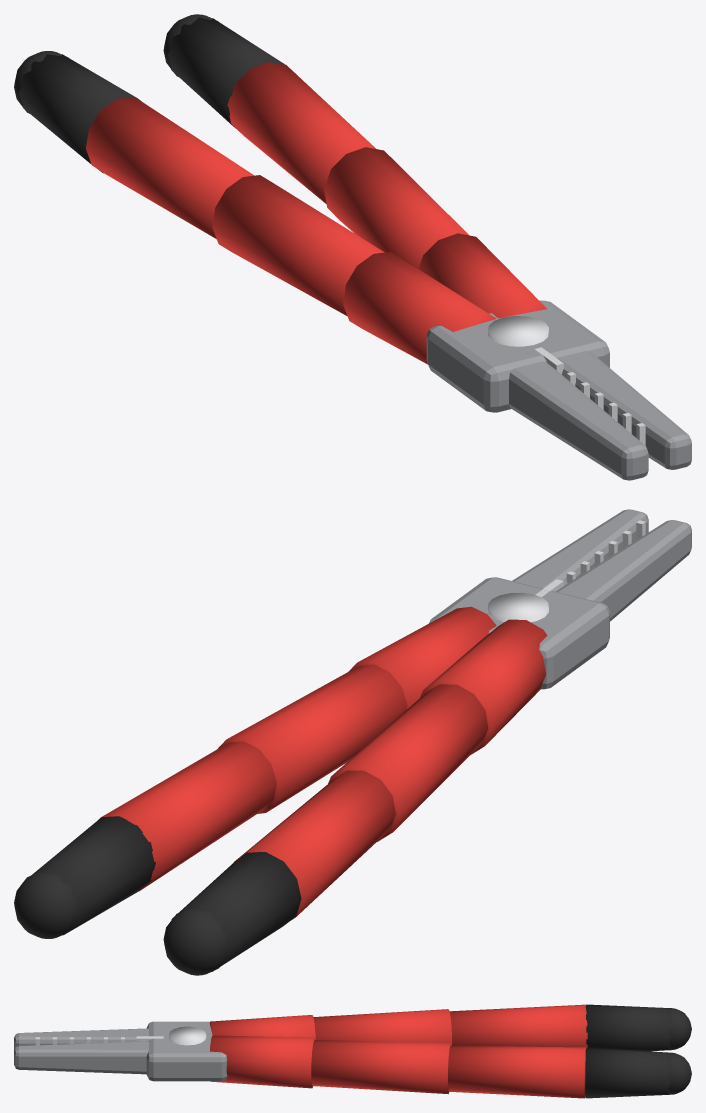
The model's file is pliers_180.glb.
3 renders of one model, top to bottom at view 1: azimuth 30°, elevation 25°; view 2: azimuth 150°, elevation 25°; view 3: azimuth 270°, elevation 25°, orthographic. The views are drawn at different scales.
Visible parts, largest first — view 1: Handle_Left_1, Handle_Left_2, Handle_Right_2, Handle_Right_1, Handle_Left_0, Joint_Plate, Jaw_Left, Handle_Left_3, Handle_Right_3, Handle_Right_0, Jaw_Right, Pivot_Rivet; view 2: Handle_Right_1, Handle_Right_2, Handle_Left_1, Handle_Left_2, Handle_Right_3, Handle_Left_0, Handle_Left_3, Joint_Plate, Jaw_Left, Handle_Right_0, Jaw_Right, Handle_Left_End (+2 smaller); view 3: Handle_Right_2, Handle_Right_1, Handle_Left_2, Handle_Right_0, Handle_Right_3, Handle_Left_1, Jaw_Right, Joint_Plate, Handle_Left_3, Handle_Left_0, Jaw_Left, Handle_Right_End (+2 smaller).
Part boxes in pixels (x1,y1,x2,y2): Handle_Left_1: (212,175,384,315); Handle_Left_2: (86,97,254,238); Handle_Right_2: (227,62,375,203); Handle_Right_1: (324,147,469,268); Handle_Left_0: (343,252,496,364); Joint_Plate: (426,300,609,412); Jaw_Left: (509,361,648,480); Handle_Left_3: (18,54,141,173); Handle_Right_3: (167,17,284,130); Handle_Right_0: (418,233,546,318); Jaw_Right: (557,351,691,469); Pivot_Rivet: (488,316,548,346); Handle_Right_1: (218,664,407,813); Handle_Right_2: (98,741,276,891); Handle_Left_1: (328,684,488,841); Handle_Left_2: (233,770,395,919); Handle_Right_3: (32,816,155,935); Handle_Left_0: (420,619,547,754); Handle_Left_3: (171,852,301,971); Joint_Plate: (429,577,609,689); Jaw_Left: (556,520,691,621); Handle_Right_0: (348,606,496,708); Jaw_Right: (512,509,648,588); Handle_Left_End: (163,907,227,975); Handle_Right_2: (448,1045,586,1098); Handle_Right_1: (311,1039,451,1094); Handle_Left_2: (449,1004,587,1047); Handle_Right_0: (209,1035,315,1088); Handle_Right_3: (585,1047,670,1098); Handle_Left_1: (313,1009,452,1045); Jaw_Right: (14,1041,148,1074); Joint_Plate: (146,1021,227,1081); Handle_Left_3: (585,1004,671,1051); Handle_Left_0: (209,1015,315,1039); Jaw_Left: (14,1028,148,1050); Handle_Right_End: (667,1052,691,1094).
Size of the model in its own units: 0.045 by 0.015 by 0.1992.
